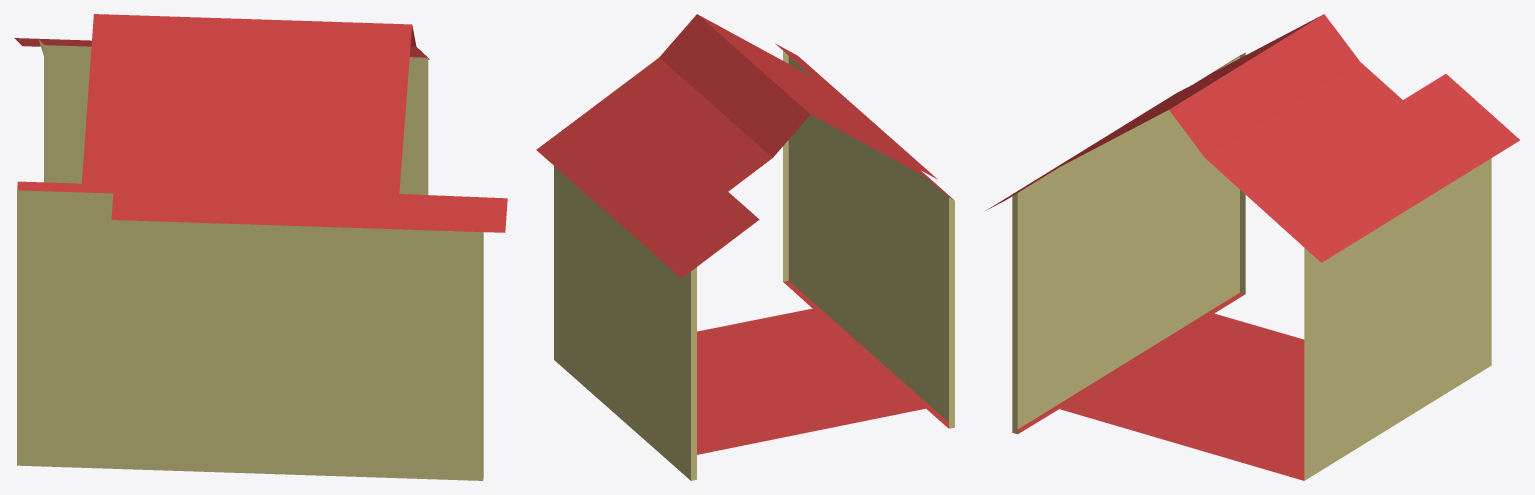
3 renders of one model, left to right at view 1: azimuth 30°, elevation 25°; view 2: azimuth 150°, elevation 25°; view 3: azimuth 270°, elevation 25°, orthographic. The views are drawn at different scales.
Bounding box in the file's own units: 16.5 × 19.37 × 13.19.
